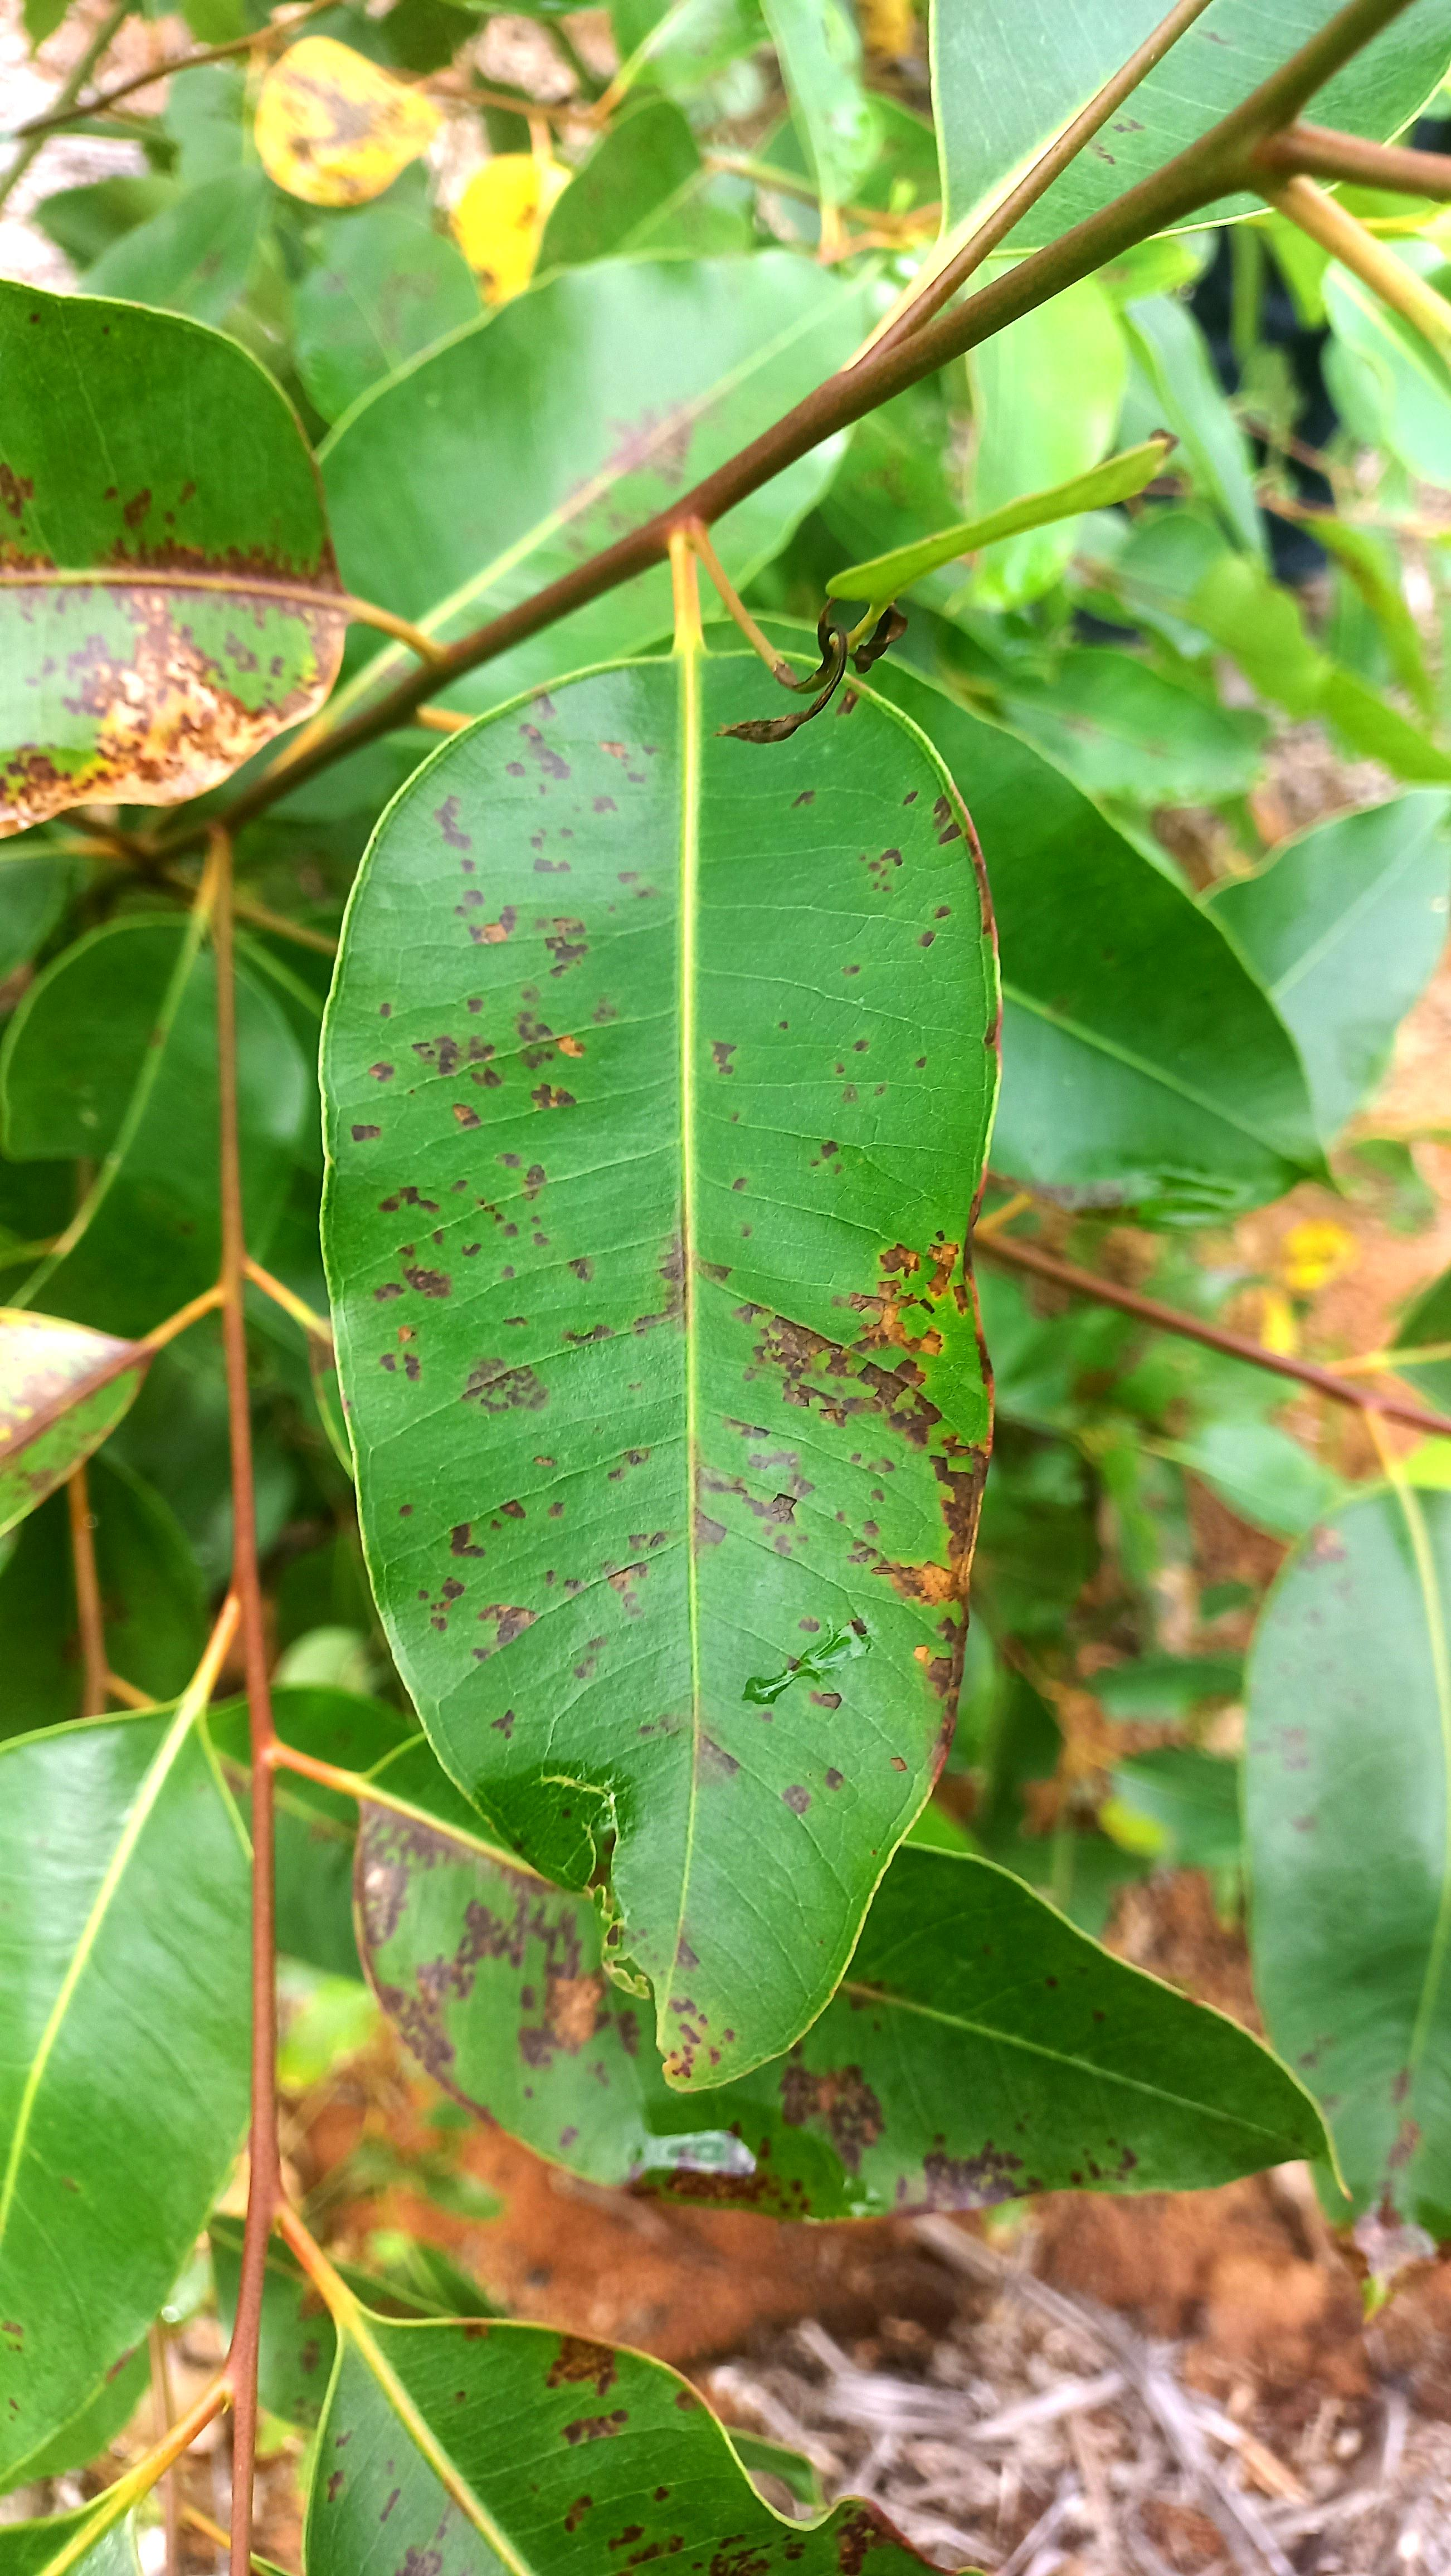Xanthomonas: (377, 669, 1021, 1941), (386, 1978, 1081, 2219), (303, 2312, 917, 2576), (0, 479, 354, 849)
